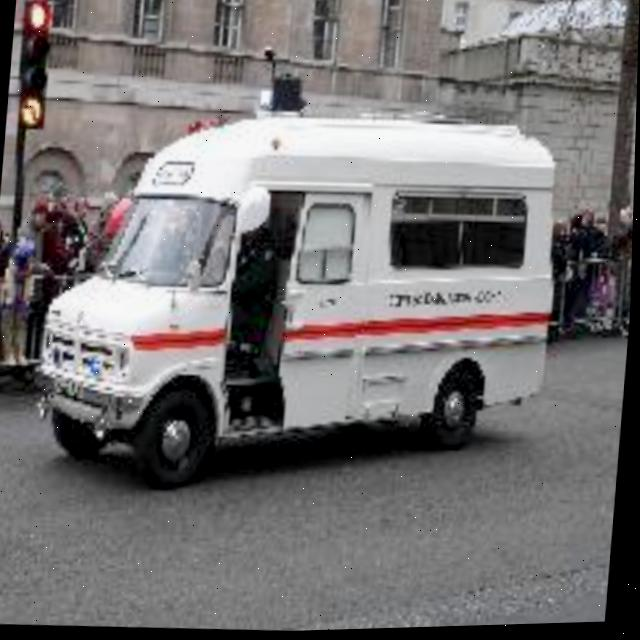emergency: (17, 62, 587, 524)
